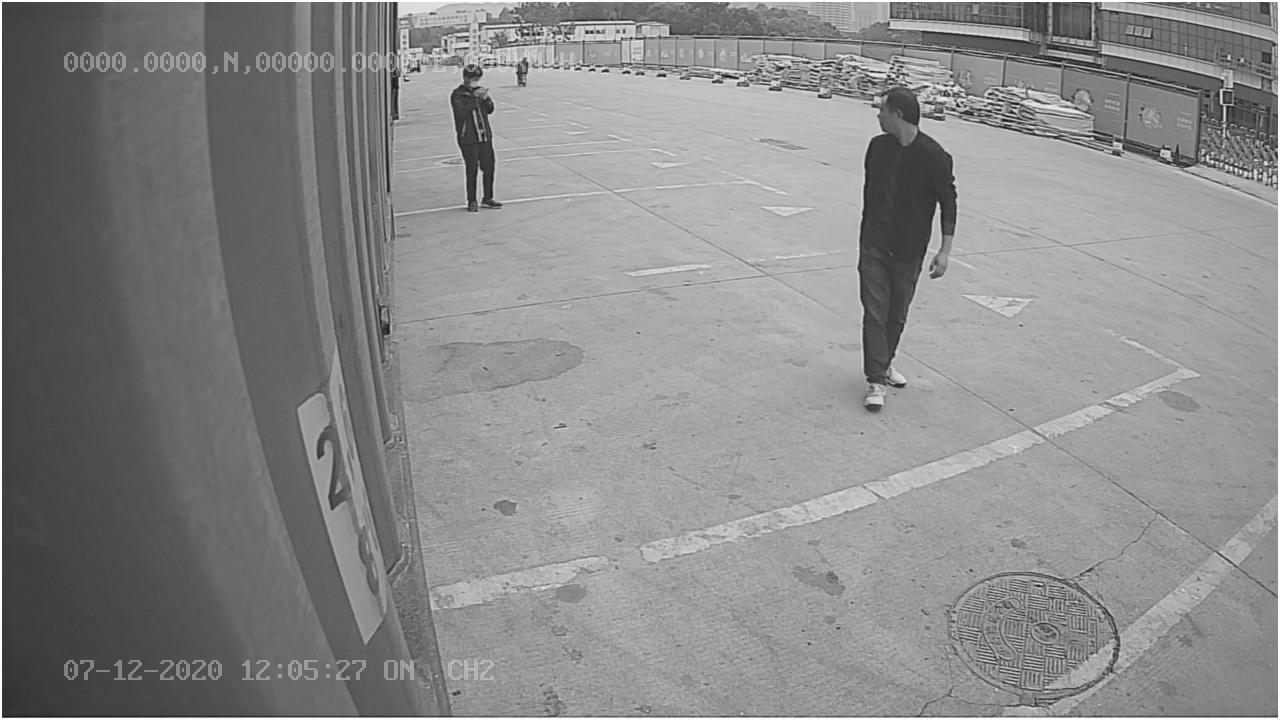person: (829, 84, 956, 416)
